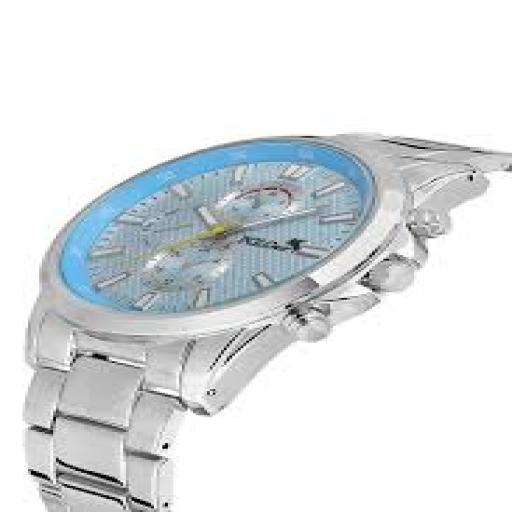KolSaati: (3, 108, 512, 512)
